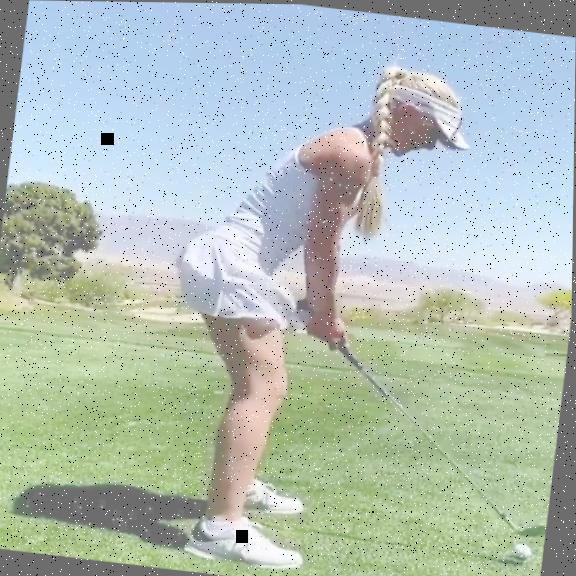ClubHead: (521, 519, 548, 536)
GolfBall: (513, 540, 535, 559)
